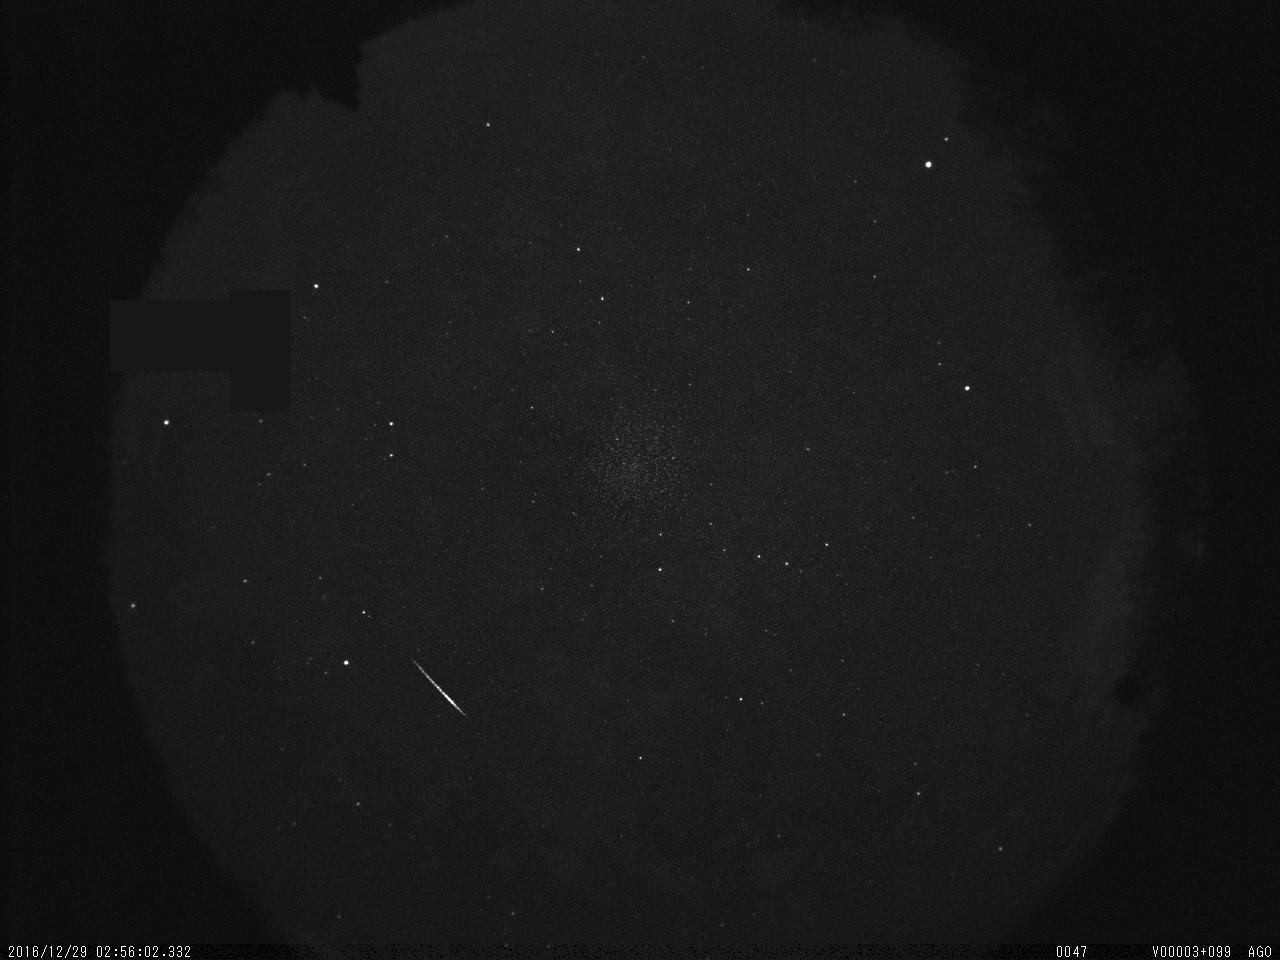meteor: (391, 644, 502, 745)
